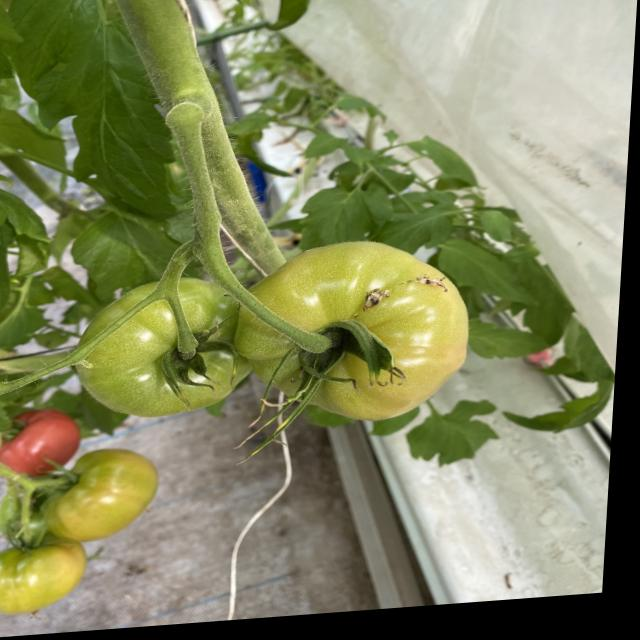yesil: (53, 249, 512, 448)
